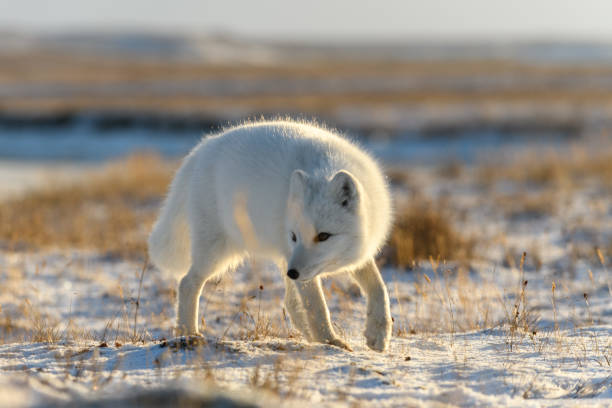arcticfox: (262, 183, 372, 285)
